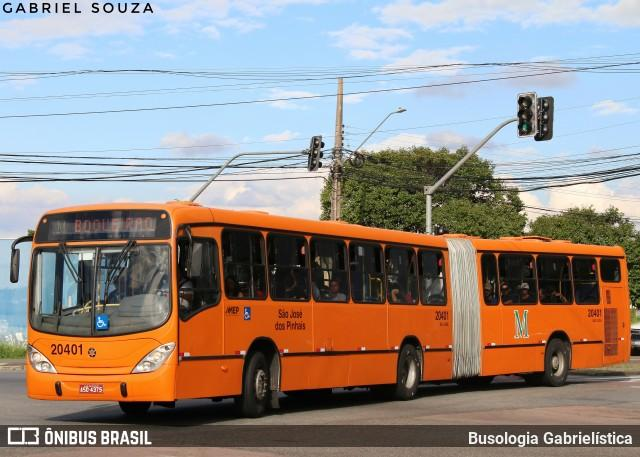BOQUEIRAO: (70, 214, 158, 235)
